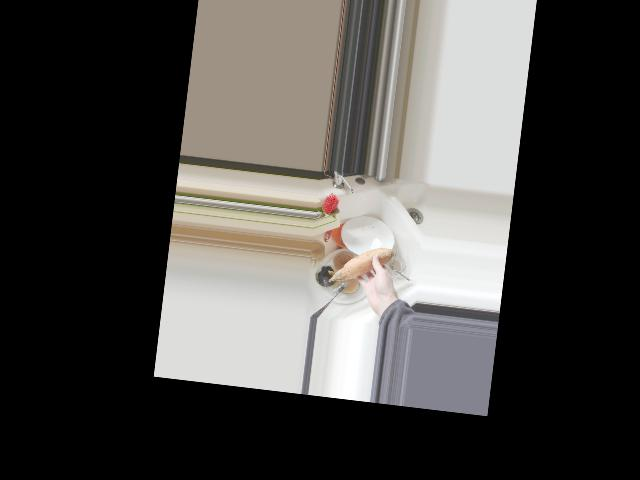sweet_potato: (330, 240, 395, 290)
